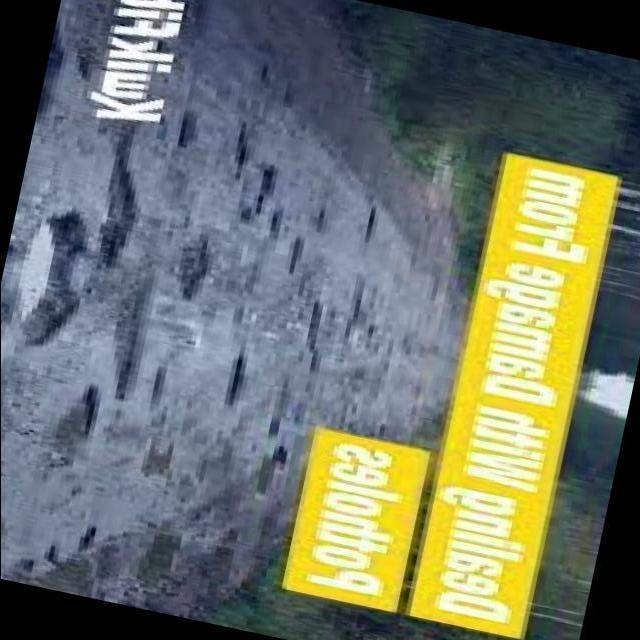pothole: (20, 230, 71, 346), (103, 144, 134, 255)
